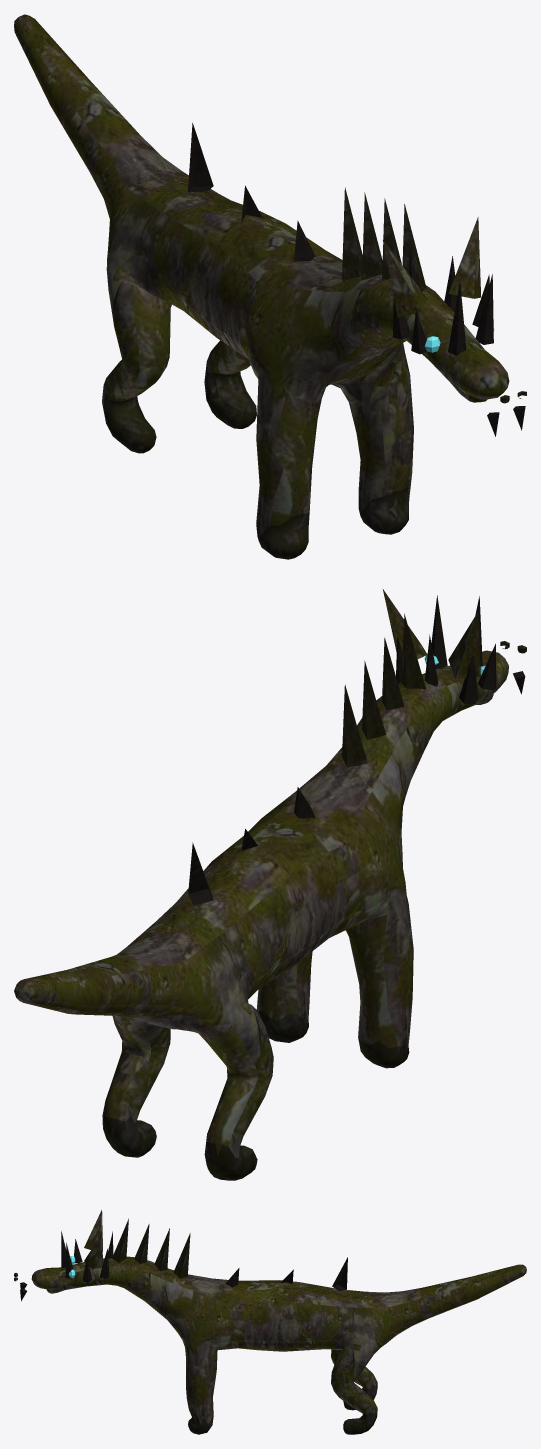
Rendered from boss_02.glb.
3 views of the same model, one above another, from view 1: azimuth 30°, elevation 25°; view 2: azimuth 150°, elevation 25°; view 3: azimuth 270°, elevation 25° (orthographic). The views are drawn at different scales.
Visible parts, largest first — view 1: boss_02; view 2: boss_02; view 3: boss_02.
Part boxes in pixels (x1,y1,x2,y2): boss_02: (14,14,526,559); boss_02: (14,589,526,1180); boss_02: (14,1210,526,1434).
Size of the model in its own units: 0.9982 by 2.52 by 5.76.
Materials: 5 (5 with a texture image).
